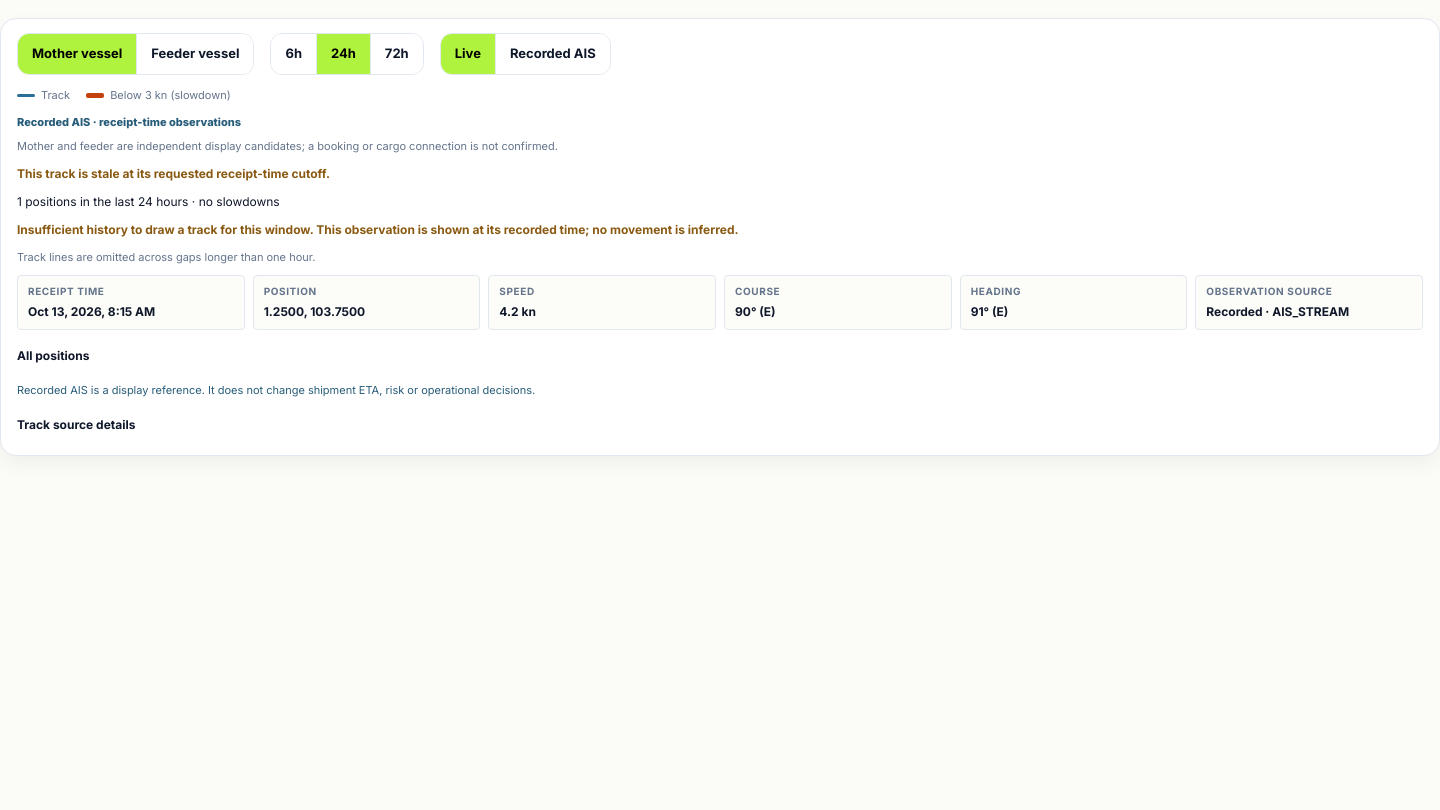
Test: track history presentation › labels AIS_STREAM observations as recorded when the response says RECORDED
The width and height of the screenshot is (1440, 810).
Expected: the text "Recorded AIS · receipt-time observations" is shown, [17, 114, 241, 128]
Expected: the text "Recorded · AIS_STREAM" is shown, [1206, 304, 1349, 319]
Click the heading "Track source details".
click(76, 424)  # box [17, 416, 135, 432]
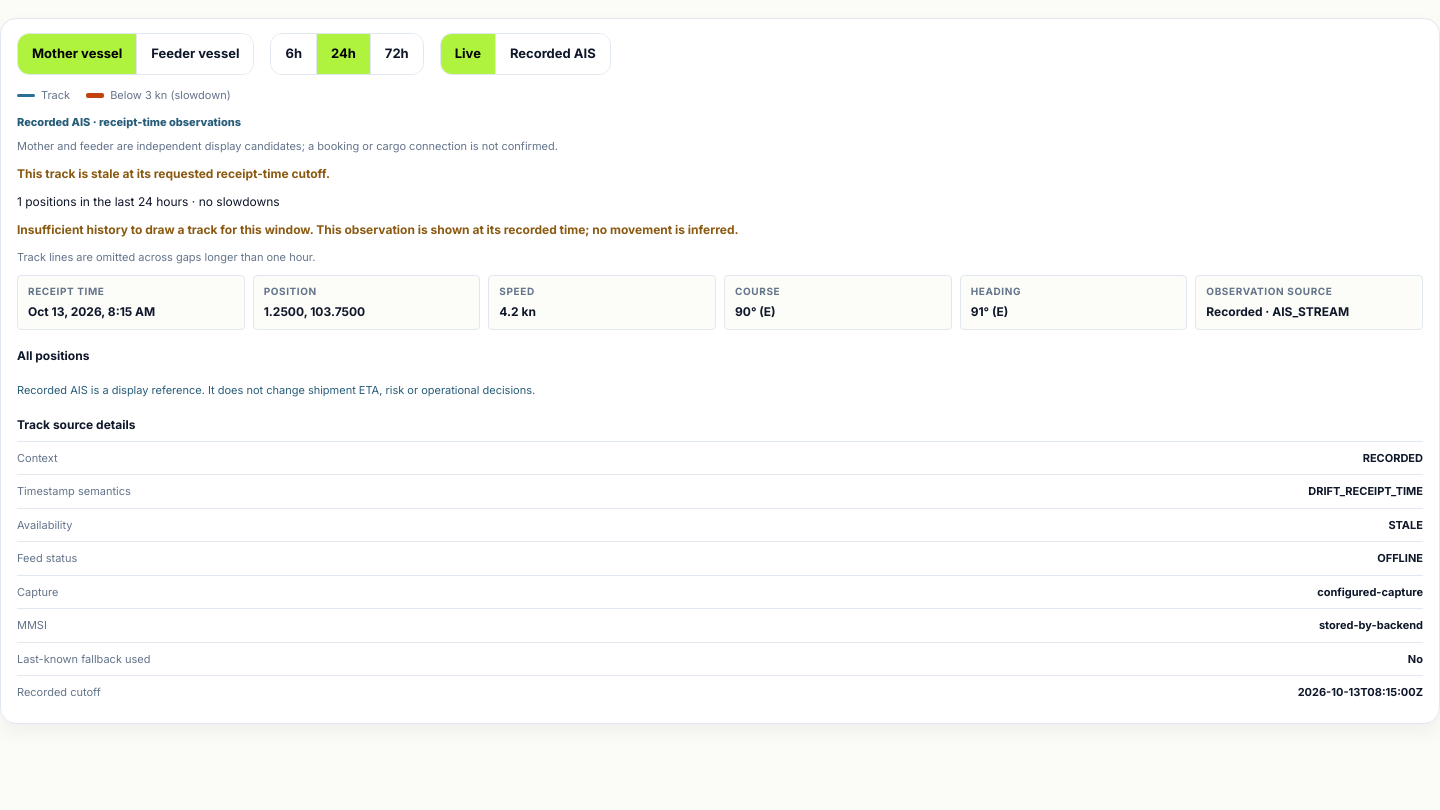
Now the text "configured-capture" is shown, box [1317, 584, 1423, 600]
Now the text "DRIFT_RECEIPT_TIME" is shown, box [1308, 483, 1423, 500]
